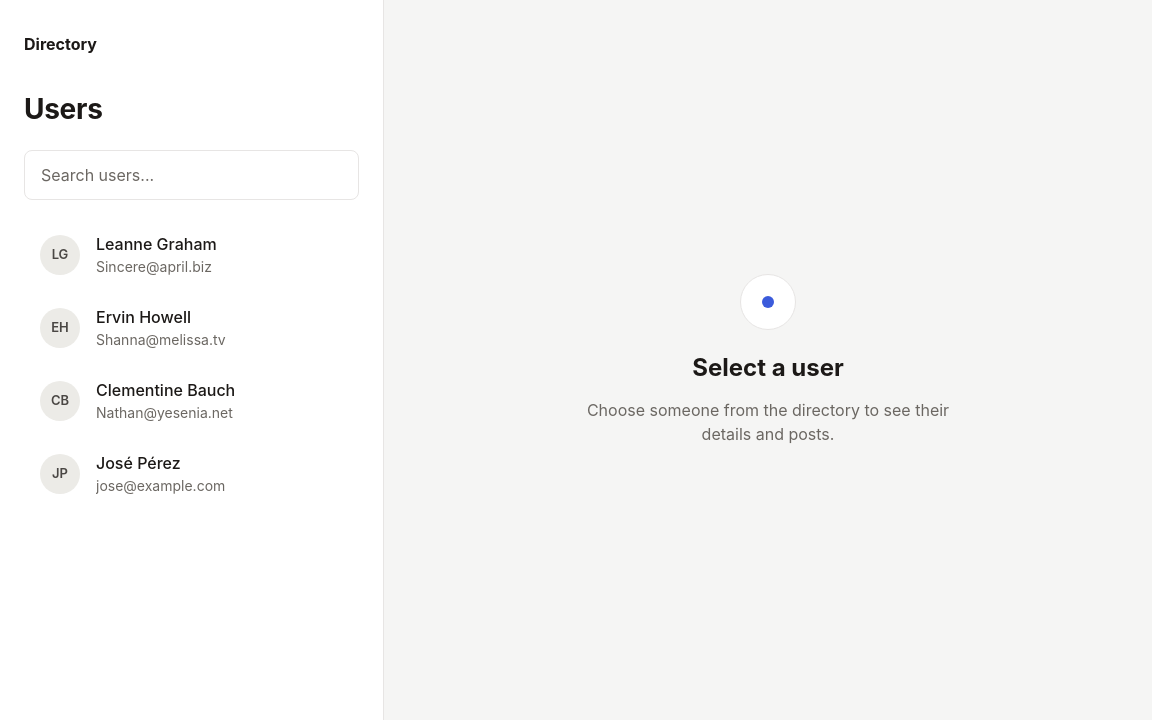
Scenario: Users directory › marks the selected user as current
Click the button "EH Ervin Howell Shanna@melissa.tv".
click(192, 328)  # box [24,293,359,362]
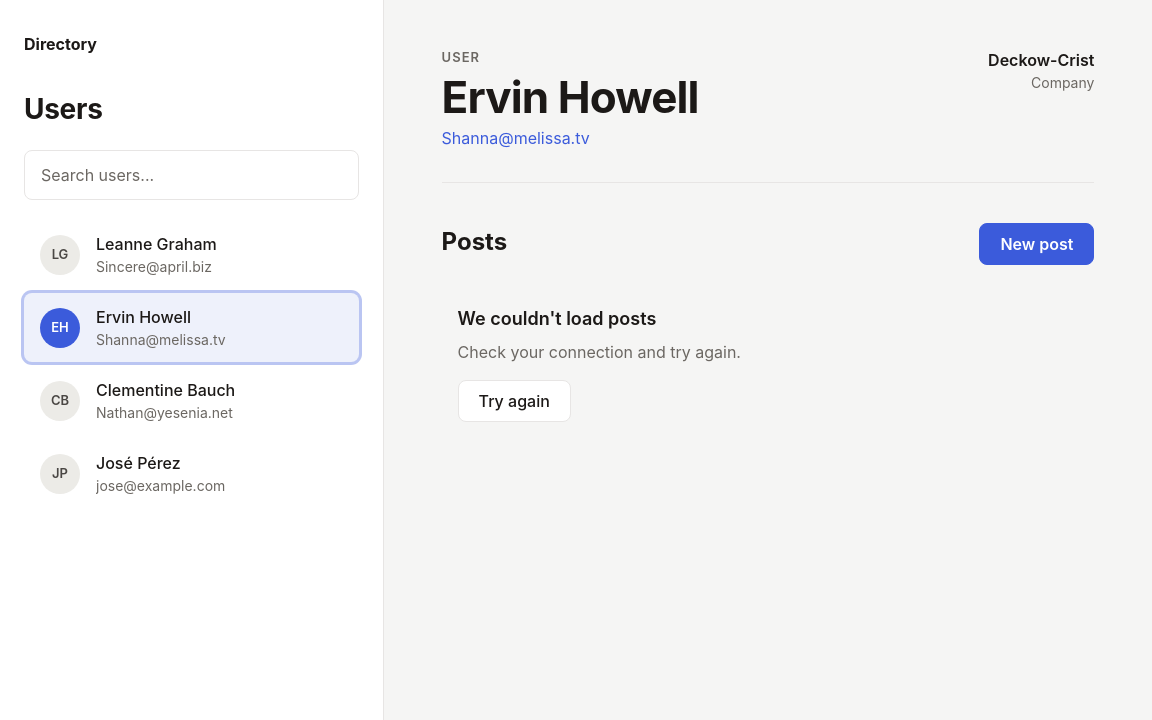
Now the button "EH Ervin Howell Shanna@melissa.tv" is marked as current, box [24,293,359,362]
